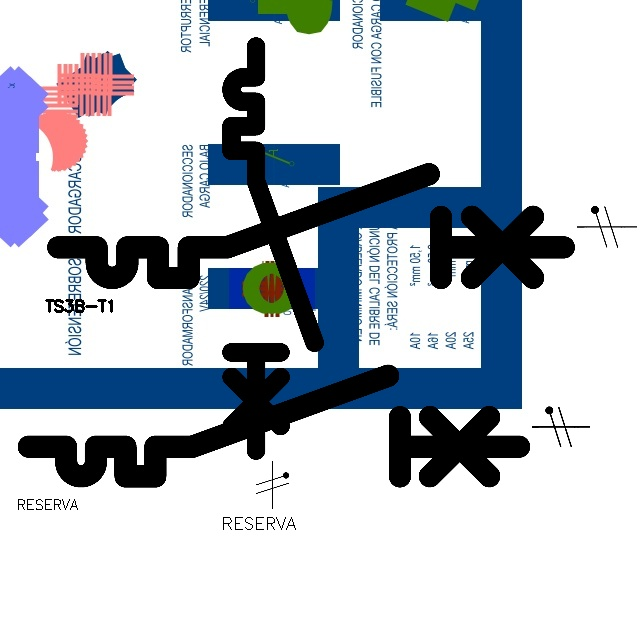interruptor_termomagnetico: (45, 161, 577, 291), (16, 363, 531, 489), (221, 36, 325, 461)
